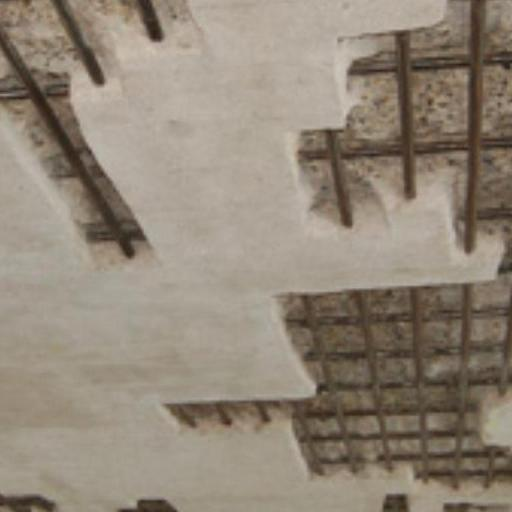spalling: (166, 253, 512, 495), (294, 0, 512, 260), (0, 0, 198, 274)
